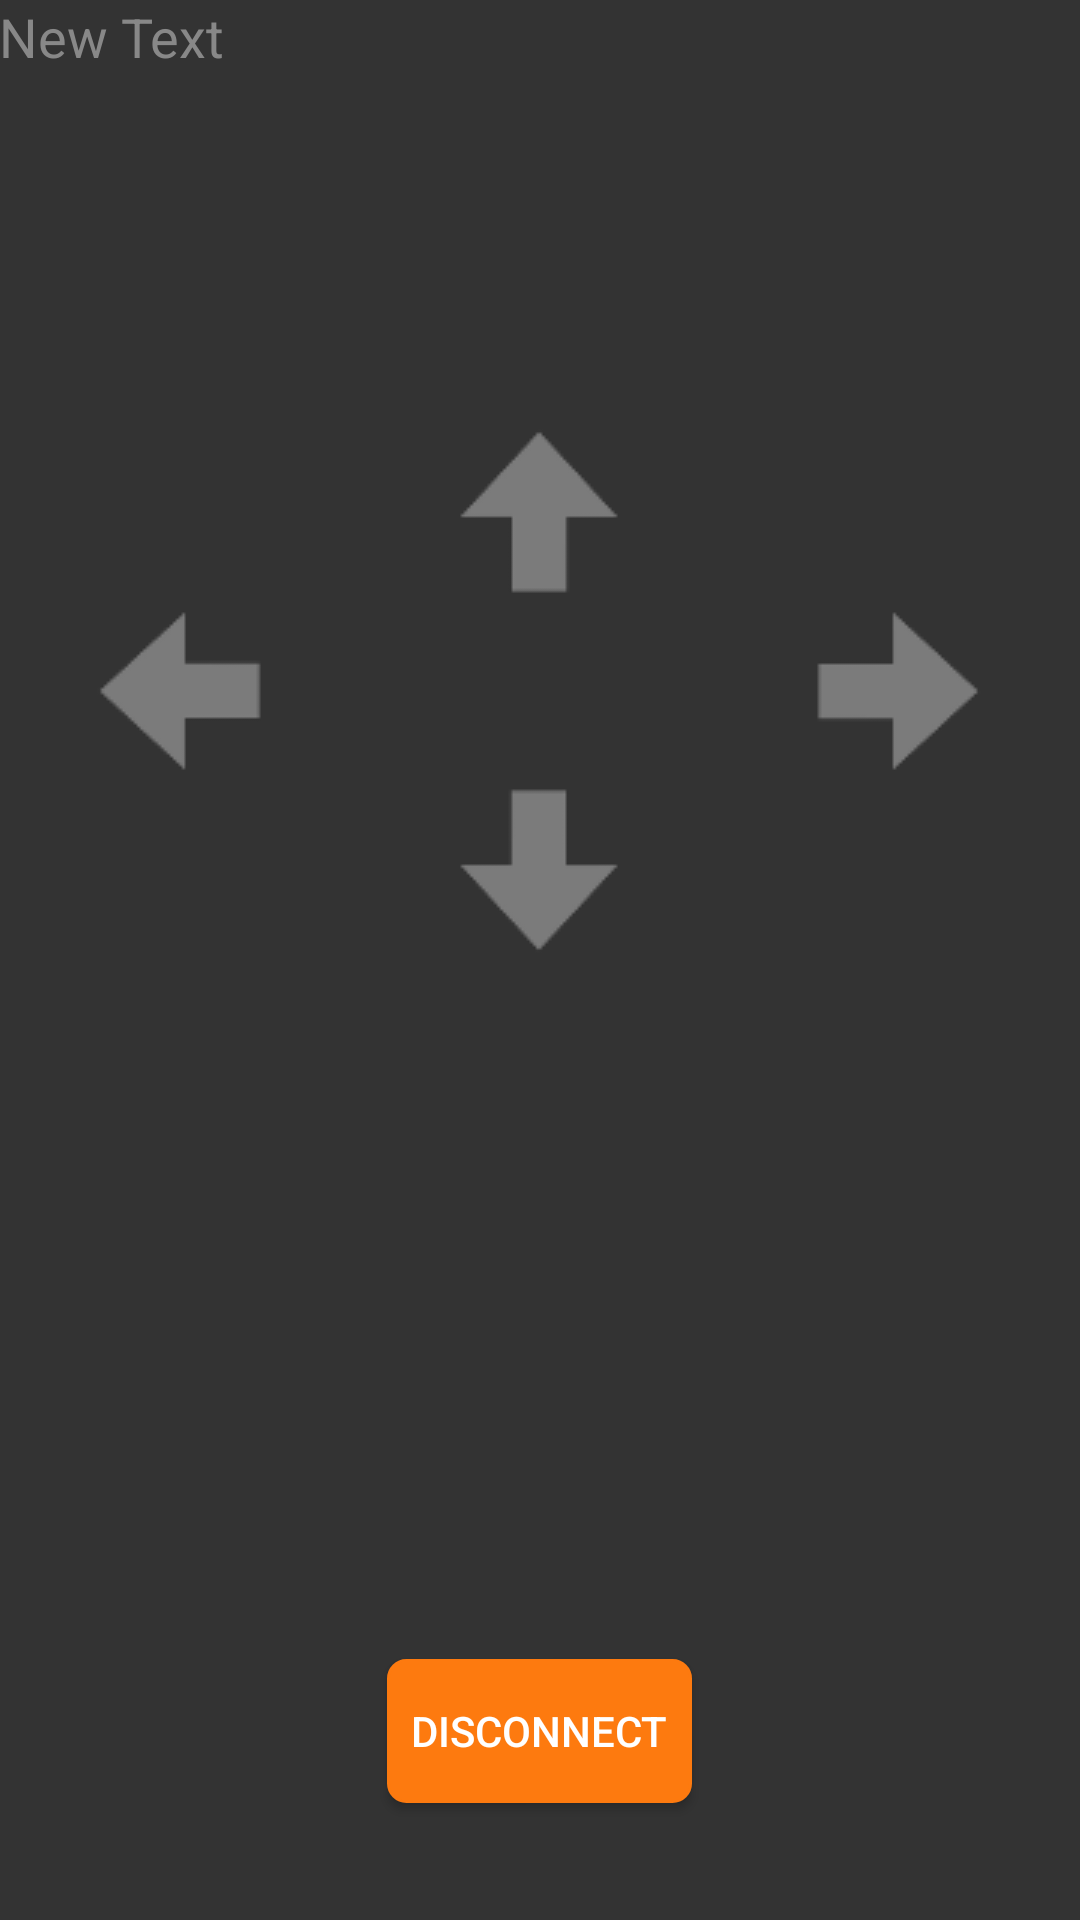

Where icons sit on this 1080px x 1920px app screen, as (x1, y1, x2, y2):
Move Backward: (461, 790, 617, 949)
Move Forward: (461, 433, 617, 592)
Turn Left: (101, 613, 260, 769)
Turn Right: (818, 613, 977, 769)
